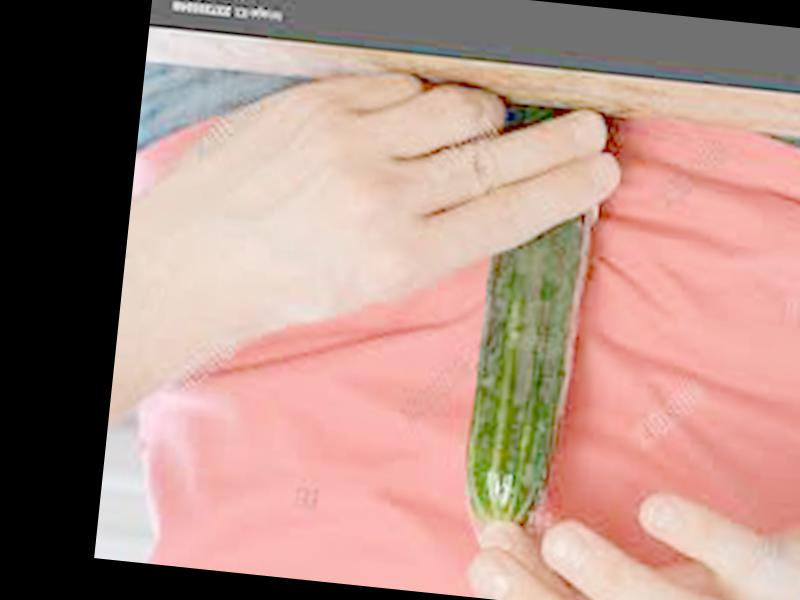Cucumber: (458, 200, 591, 529)
